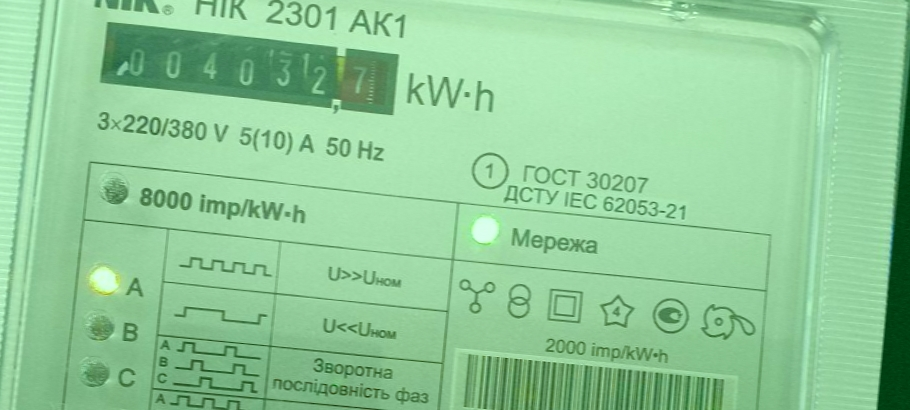0: (163, 44, 186, 79), (237, 51, 259, 86), (127, 41, 149, 75)
2: (310, 59, 331, 95)
3: (275, 53, 296, 86)
4: (200, 45, 223, 82)
7: (351, 60, 371, 94)
screen: (90, 10, 411, 126)
